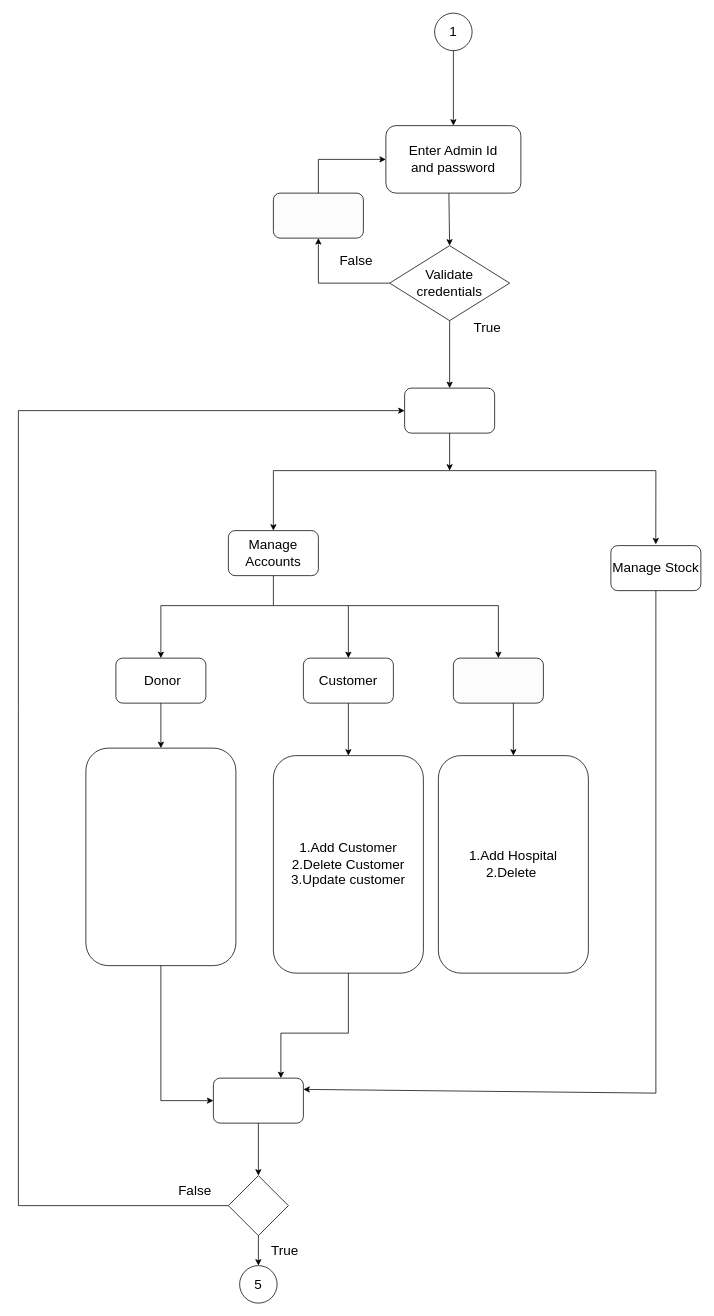
The diagram is 714 pixels wide and 1316 high, and some of its shapes have lost their labels. The box of each missing label's shape, as (x1, y1, x2, y2) in pixels:
1.Add Donor 2.Delete Donor 3.Update Donor: (85, 747, 236, 966)
Enter choice: (404, 387, 495, 433)
Hospital: (453, 657, 543, 703)
Invalid credentials: (273, 192, 363, 238)
Logout: (213, 1077, 303, 1123)
